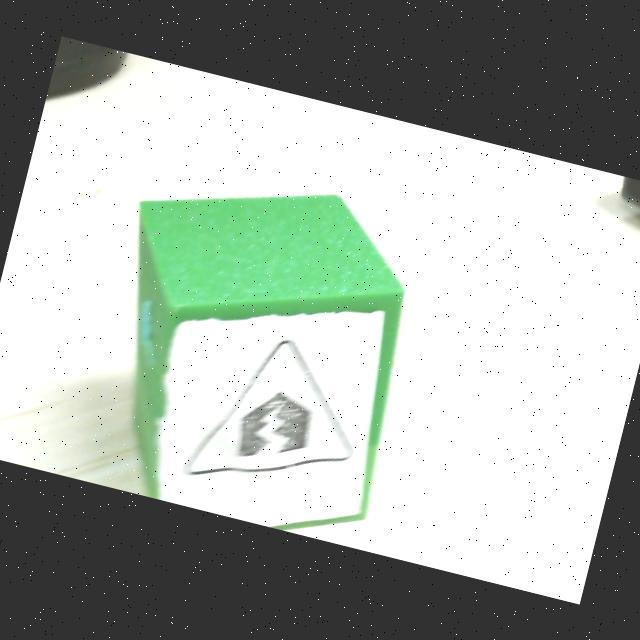Earthquake: (183, 322, 377, 516), (182, 340, 354, 477)
